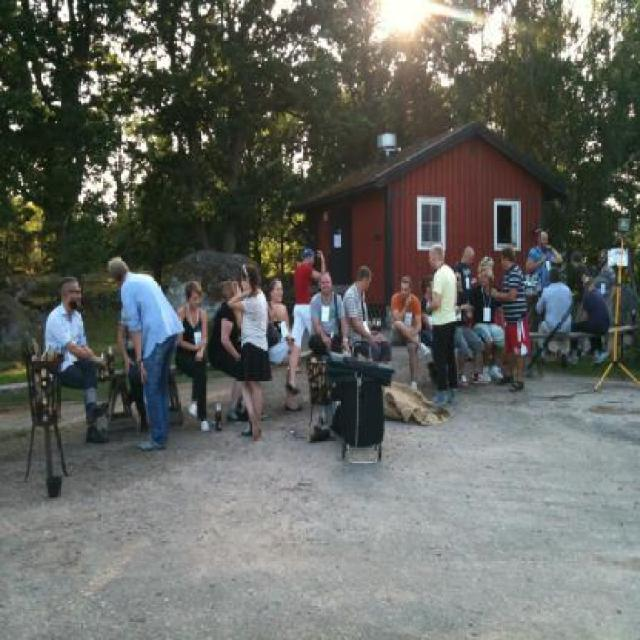Person: (105, 257, 183, 455), (43, 276, 111, 447), (229, 258, 266, 440), (307, 272, 350, 428), (419, 243, 458, 409), (208, 275, 250, 423), (262, 275, 304, 411), (285, 251, 330, 372), (491, 246, 527, 397), (338, 266, 392, 366), (112, 308, 156, 427), (176, 282, 210, 433), (448, 265, 489, 389), (388, 278, 430, 390), (525, 234, 564, 338), (573, 276, 615, 370), (472, 265, 506, 381), (536, 268, 576, 363), (567, 251, 598, 363), (593, 249, 616, 342), (423, 270, 439, 359), (415, 275, 430, 354), (470, 248, 493, 288), (569, 253, 589, 299), (455, 248, 476, 288), (480, 254, 498, 272)
